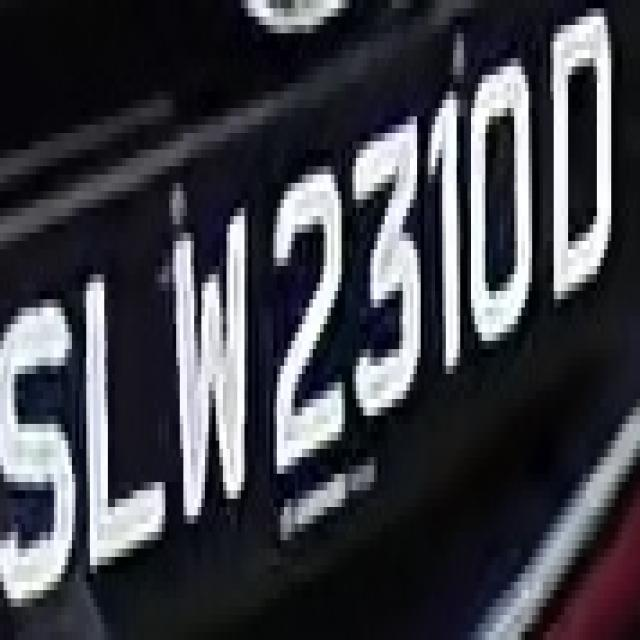0: (453, 25, 536, 382)
1: (424, 75, 471, 424)
2: (259, 133, 356, 482)
3: (338, 100, 428, 432)
D: (536, 17, 622, 324)
L: (83, 224, 176, 598)
S: (3, 249, 82, 640)
W: (162, 183, 255, 532)
